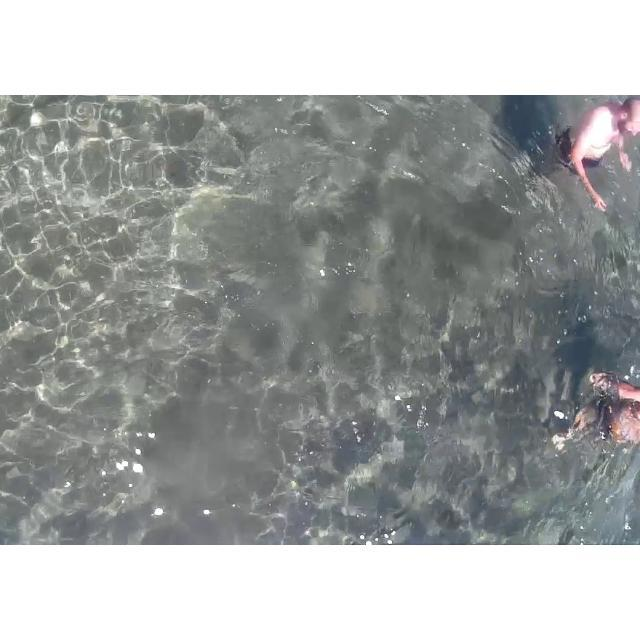human: (559, 95, 637, 217)
